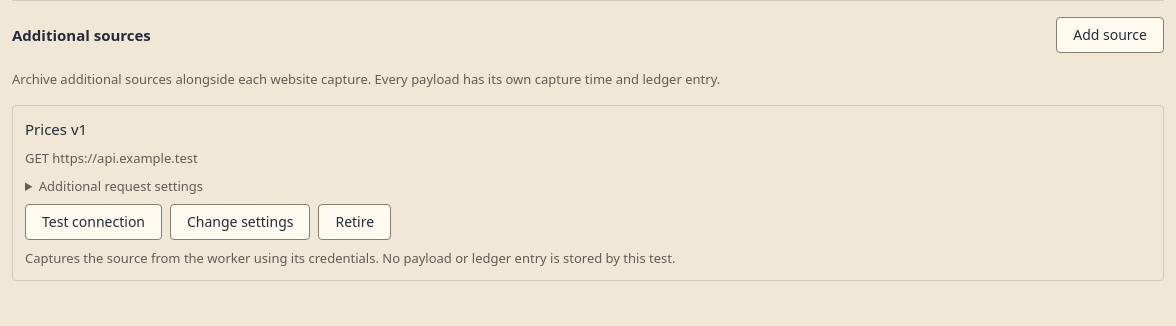
Scenario: API source setup › queues connection tests instead of fetching APIs from the browser
Click the button "Test connection" at coordinates (94, 222), box [25,204,162,240]
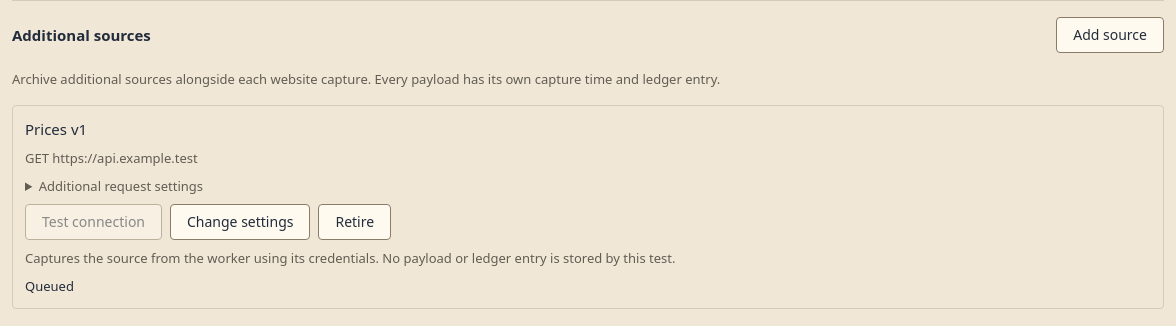
Check: the text "Queued" is shown, box [25,277,74,295]
